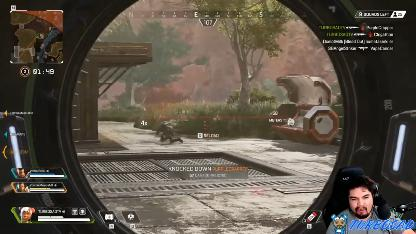Target: (155, 122, 185, 144)
